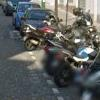Motorcycle: (22, 19, 100, 80)
